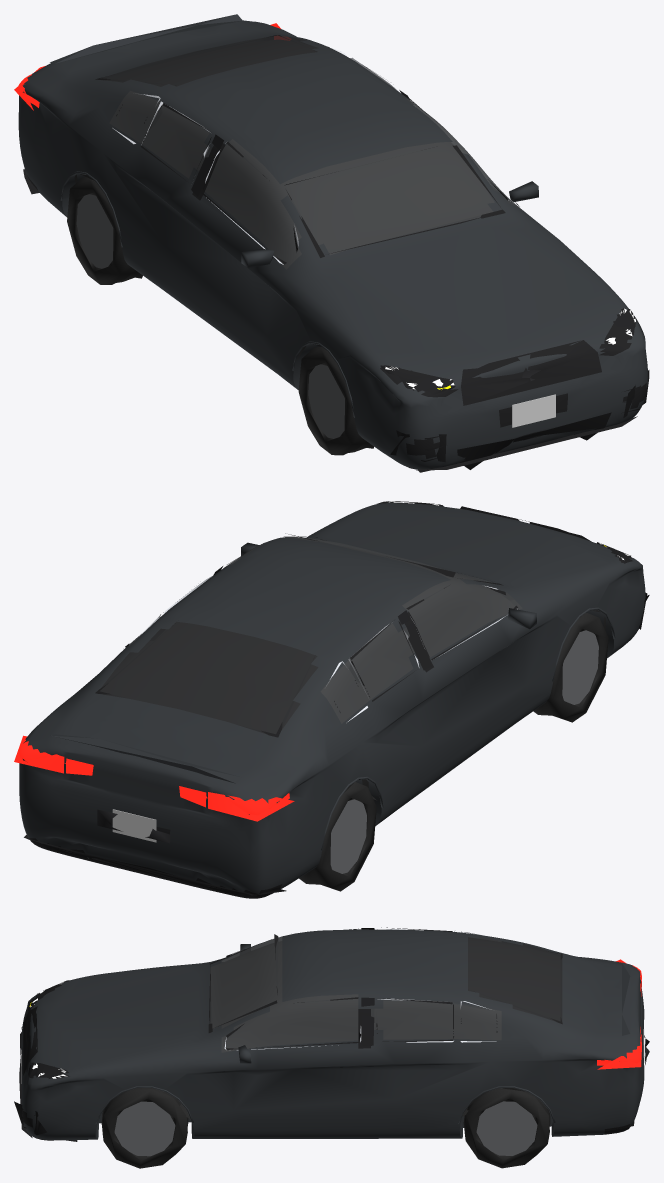
File: sedanSport-lod2.glb
3 views of the same model, one above another, from view 1: azimuth 30°, elevation 25°; view 2: azimuth 150°, elevation 25°; view 3: azimuth 270°, elevation 25° (orthographic). The views are drawn at different scales.
Parts seen in each view (by area): view 1: Body, Body_Lining, Body_Trim, Wheel_FR_Tyre, Wheel_RR_Tyre, Wheel_RR_Face, Wheel_FR_Face, DeckSpoiler, PlateFront, SportSplitter; view 2: Body, Body_Lining, Body_Trim, Wheel_FR_Tyre, Wheel_RR_Tyre, Wheel_FR_Face, Wheel_RR_Face, DeckSpoiler, PlateRear; view 3: Body, Body_Lining, Body_Trim, Wheel_FL_Tyre, Wheel_RL_Tyre, Wheel_RL_Face, Wheel_FL_Face, DeckSpoiler.
Boxes of the visible parts, x1,y1,x2,y2 form: Body: (18,20,647,469); Body_Lining: (110,41,493,269); Body_Trim: (14,23,649,472); Wheel_FR_Tyre: (298,346,373,455); Wheel_RR_Tyre: (67,177,142,284); Wheel_RR_Face: (76,194,113,268); Wheel_FR_Face: (308,364,344,438); DeckSpoiler: (50,14,242,63); PlateFront: (512,394,555,427); SportSplitter: (416,416,637,470); Body: (18,502,645,898); Body_Lining: (107,574,514,732); Body_Trim: (14,501,649,895); Wheel_FR_Tyre: (533,613,608,722); Wheel_RR_Tyre: (299,782,376,891); Wheel_FR_Face: (562,630,598,704); Wheel_RR_Face: (330,799,366,873); DeckSpoiler: (50,734,241,783); PlateRear: (112,809,156,842); Body: (21,929,644,1140); Body_Lining: (210,938,559,1052); Body_Trim: (14,927,649,1141); Wheel_FL_Tyre: (101,1088,188,1168); Wheel_RL_Tyre: (463,1088,550,1168); Wheel_RL_Face: (476,1101,537,1155); Wheel_FL_Face: (114,1101,175,1156); DeckSpoiler: (622,962,630,1035).
Bounding box in the file's own units: 2.04 × 1.41 × 4.95.
